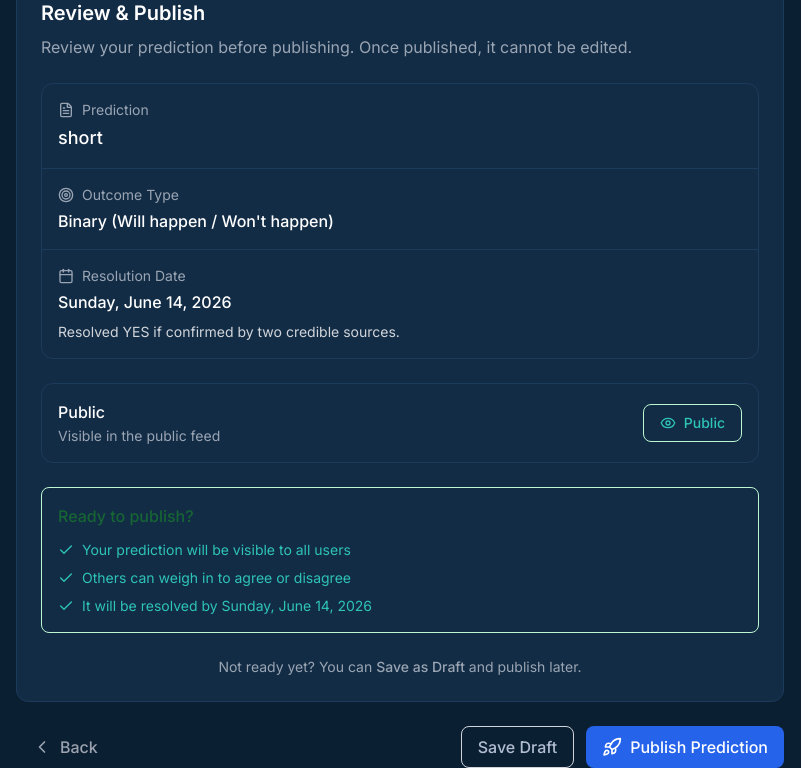
Scenario: ForecastWizard › submit guard — publish with stale/incomplete draft › navigates to step 2 and shows error when claimText is too short
(page scrolled)
Click the button "Publish Prediction".
click(685, 747)  # box [586,726,784,767]
(page scrolled)
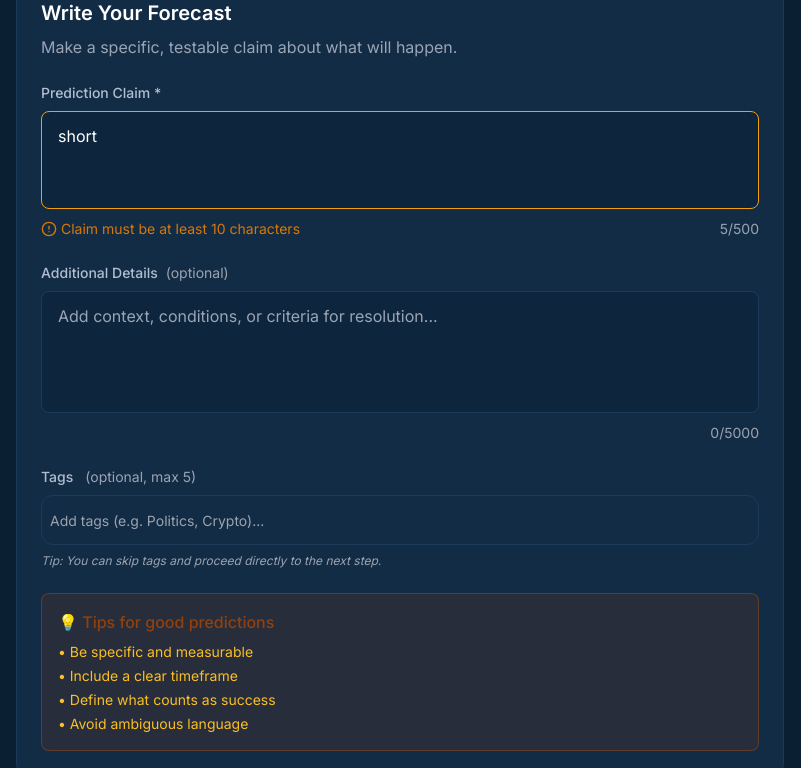
Expected: the heading "Write Your Forecast" is shown, [41,1,231,25]
